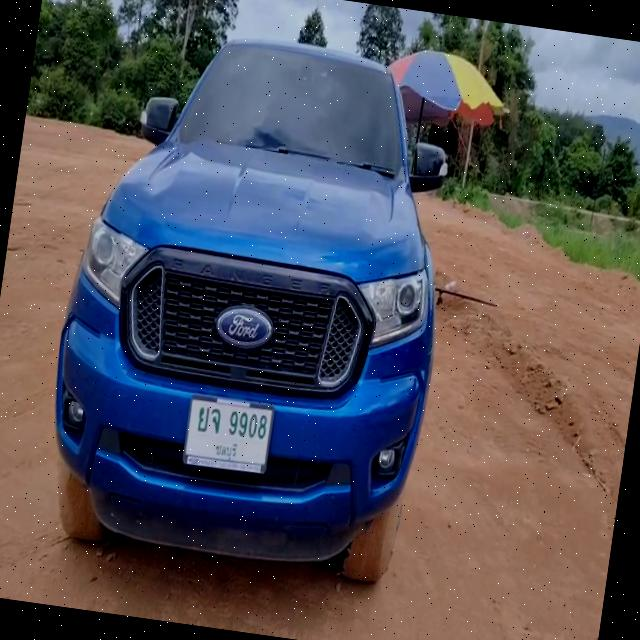Digit: (226, 408, 270, 444)
Licenseplate: (182, 396, 274, 474)
Provincename: (214, 439, 240, 463)
Thaichar: (195, 404, 222, 437)
